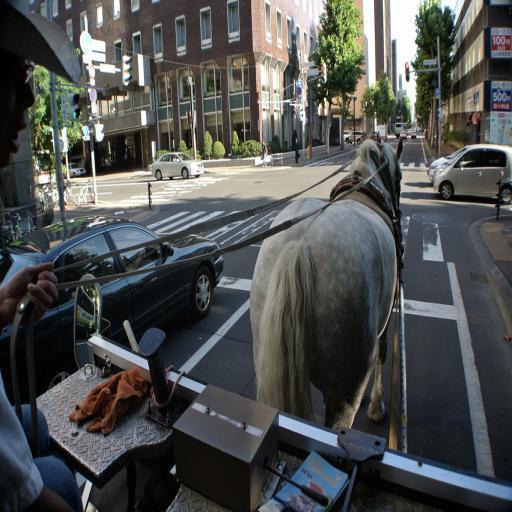horse: (250, 130, 402, 438)
